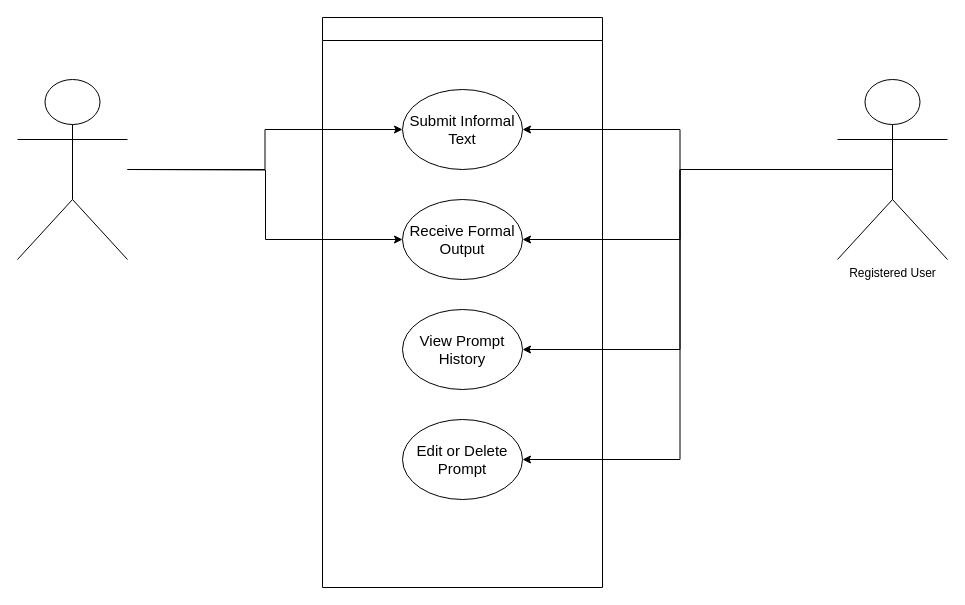
This 965x605 diagram has some shape labels left out. Each missing label, with the box of its shape:
FormalNet: (322, 16, 602, 588)
User: (16, 78, 128, 260)
